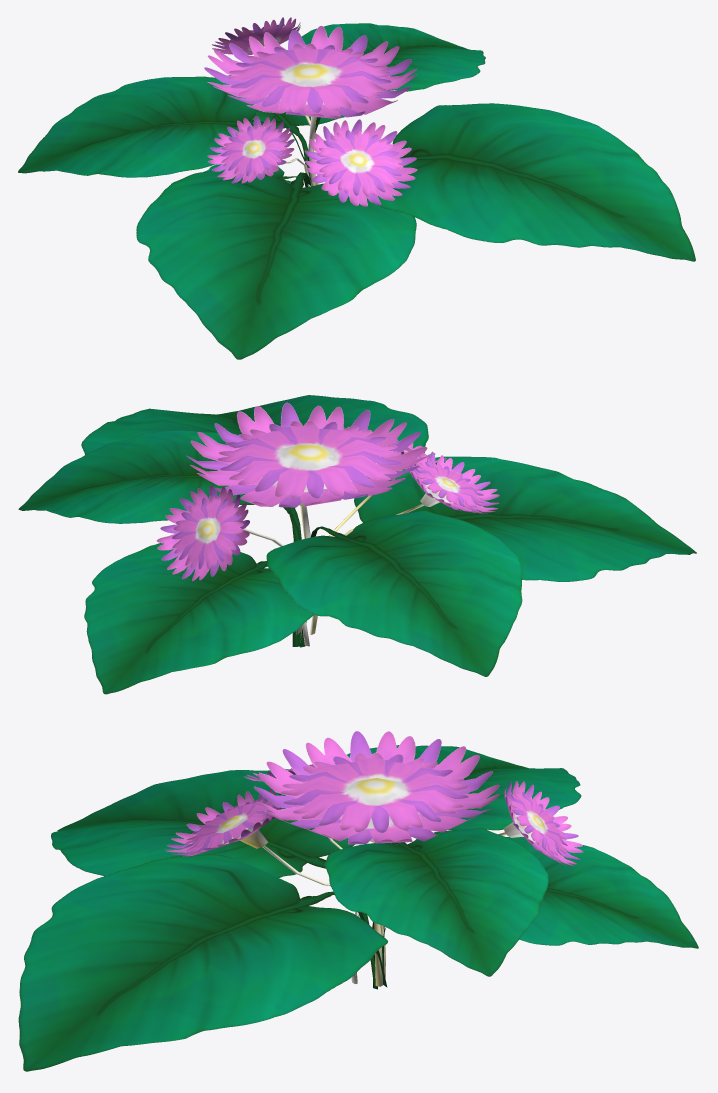
Rendered from pink_circle.fbx.
3 views of the same model, one above another, from view 1: azimuth 30°, elevation 25°; view 2: azimuth 150°, elevation 25°; view 3: azimuth 270°, elevation 25° (orthographic). The views are drawn at different scales.
Visible parts, largest first — view 1: çiç_2.011; view 2: çiç_2.011; view 3: çiç_2.011.
Boxes of the visible parts, left/top/right/bottom form: çiç_2.011: left=18, top=17, right=695, bottom=359; çiç_2.011: left=18, top=395, right=696, bottom=694; çiç_2.011: left=18, top=731, right=698, bottom=1071.
Bounding box in the file's own units: 70.38 × 25.21 × 74.05.
